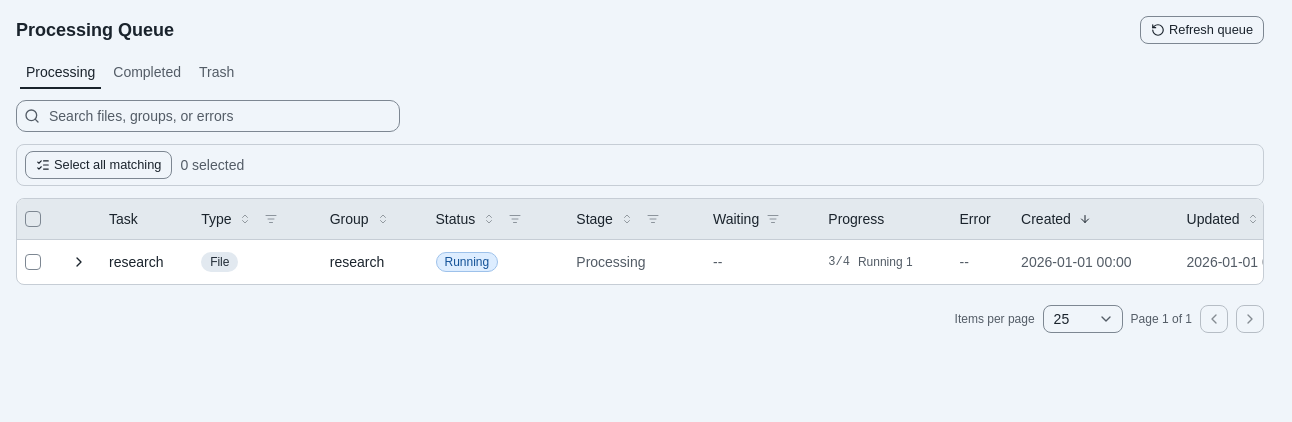
ProcessingQueuePage › keeps the legacy top bulk commands out of the header in every view
Click the tab "Completed". click: (147, 72)
box: [106,60,188,84]
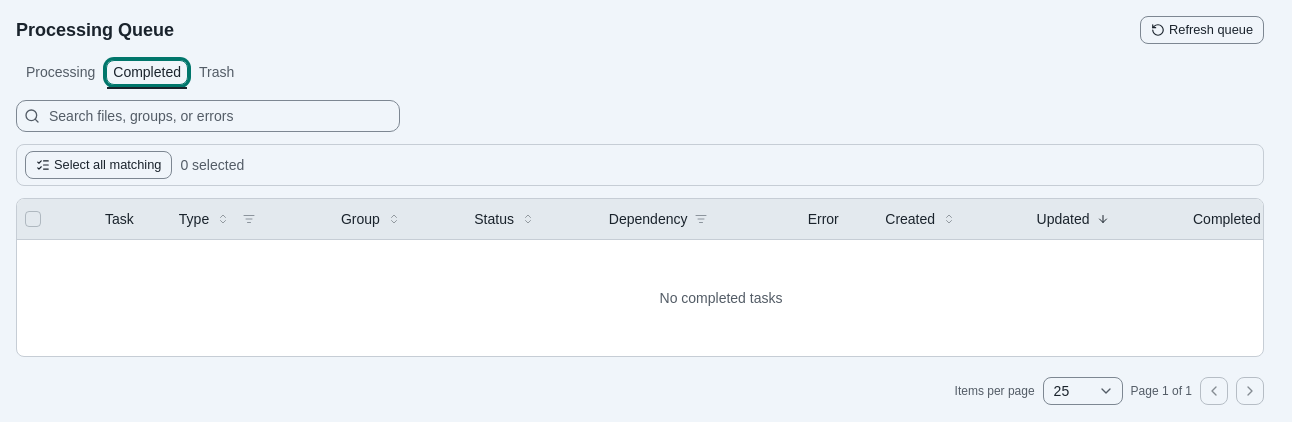
Expected: the text "No completed tasks" is shown, [17,239,1263,356]
